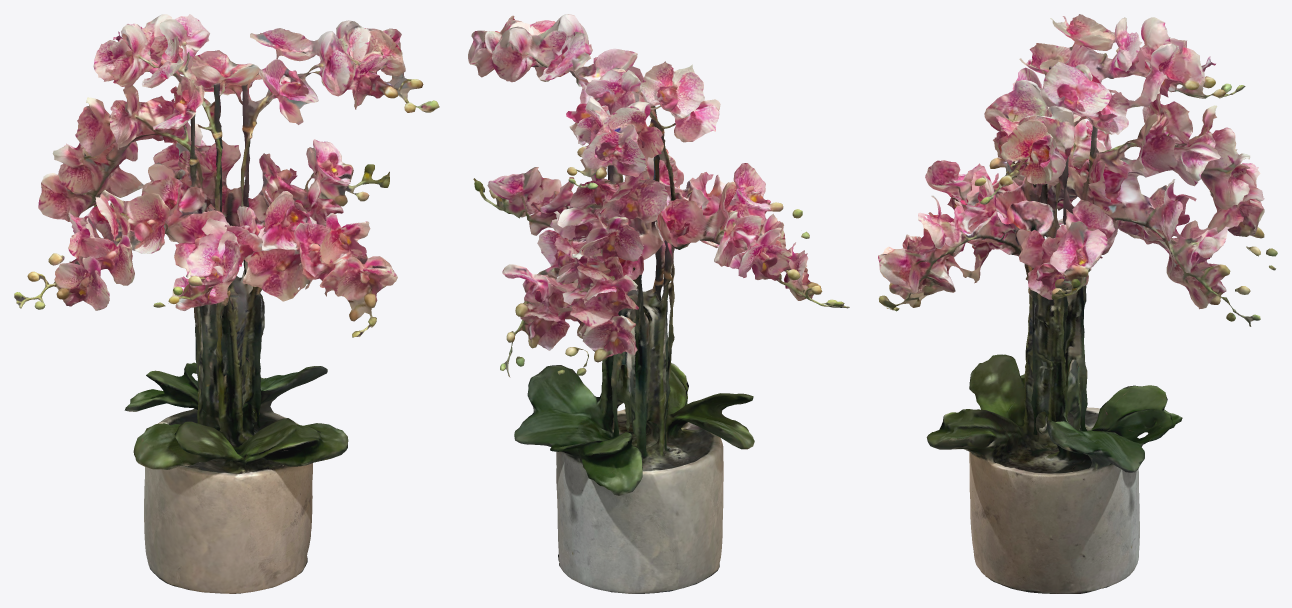
File: pink_flowers.glb
The picture shows the model from 3 angles, left to right: view 1: azimuth 30°, elevation 25°; view 2: azimuth 150°, elevation 25°; view 3: azimuth 270°, elevation 25°; orthographic projection. The views are drawn at different scales.
Parts seen in each view (by area): view 1: Object_4, Object_5; view 2: Object_4, Object_5; view 3: Object_4, Object_5.
Part boxes in pixels (x1,y1,x2,y2): Object_4: (14,14,439,593); Object_5: (14,42,389,534); Object_4: (468,14,849,593); Object_5: (473,79,842,567); Object_4: (878,14,1277,593); Object_5: (941,48,1264,430).
Size of the model in its own units: 0.5856 by 0.7572 by 0.5184.
1 material, 1 textured.
